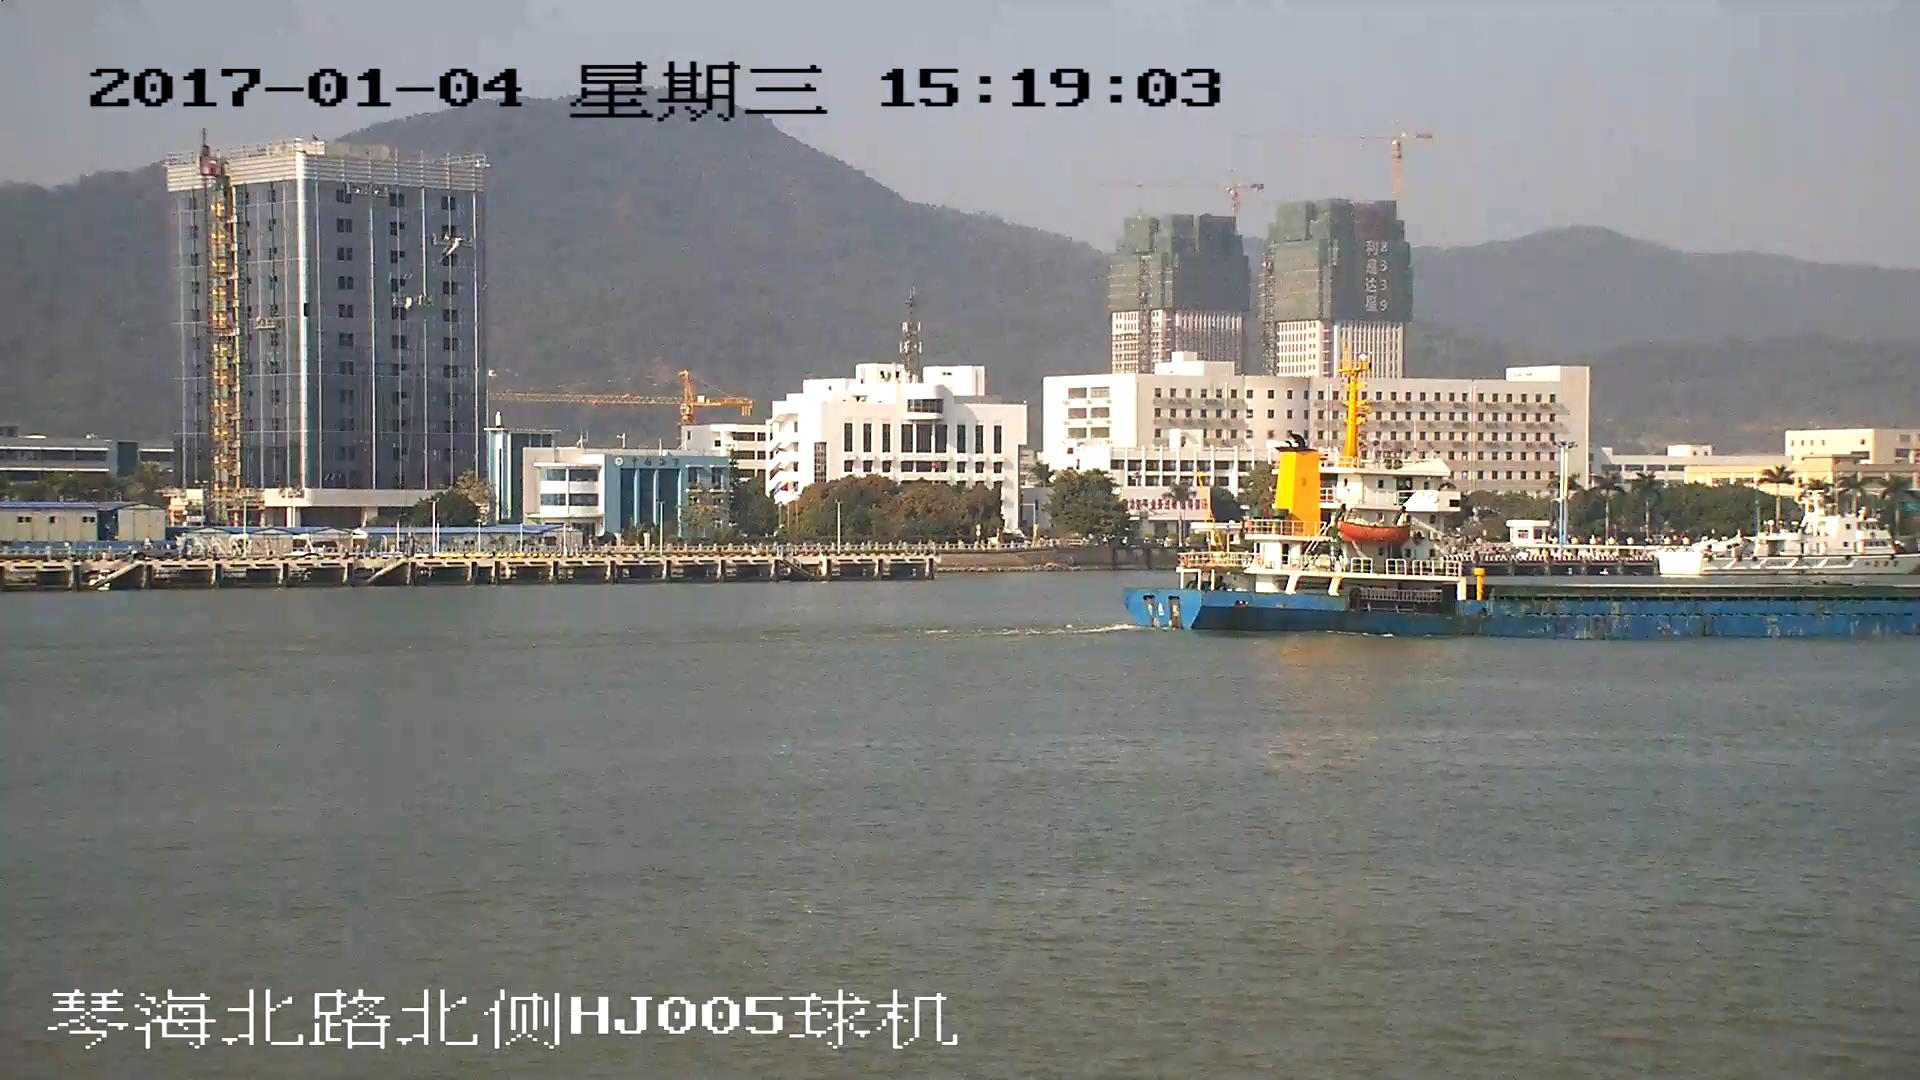general cargo ship: (1129, 367, 1920, 639)
